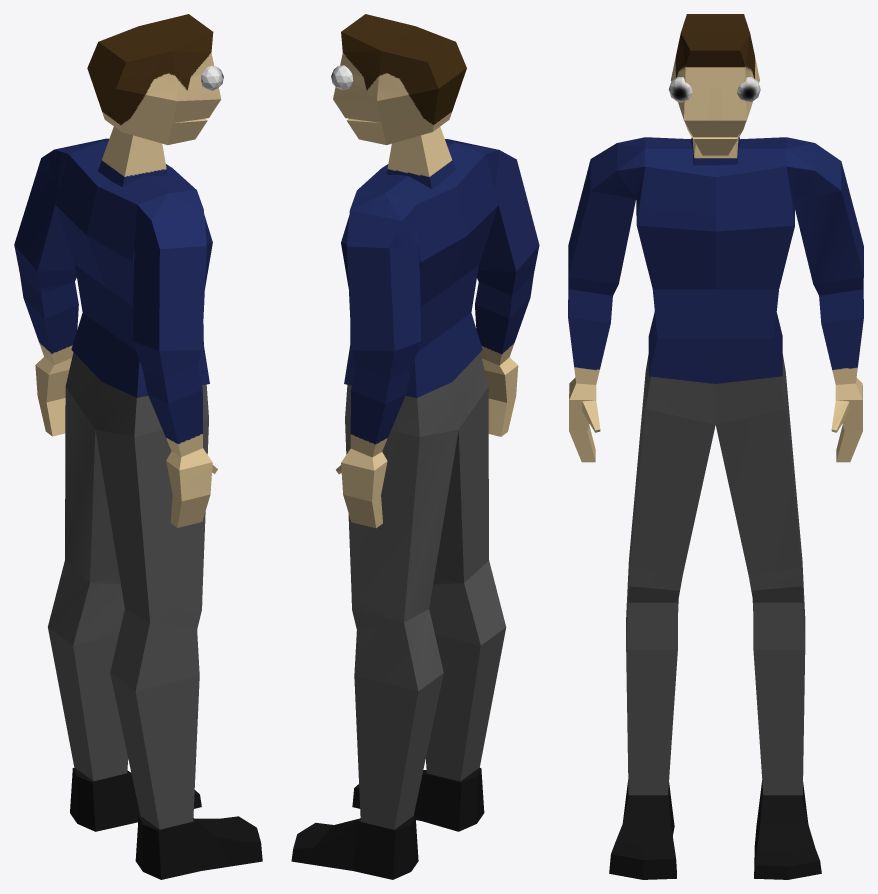
The model's file is Marty.fbx.
The picture shows the model from 3 angles, left to right: view 1: azimuth 30°, elevation 25°; view 2: azimuth 150°, elevation 25°; view 3: azimuth 270°, elevation 25°; orthographic projection.
Parts seen in each view (by area): view 1: Cube.001; view 2: Cube.001; view 3: Cube.001.
Boxes of the visible parts, x1,y1,x2,y2 form: Cube.001: (14, 14, 262, 879); Cube.001: (291, 14, 539, 879); Cube.001: (568, 14, 863, 879).
Size of the model in its own units: 109 by 607 by 199.
